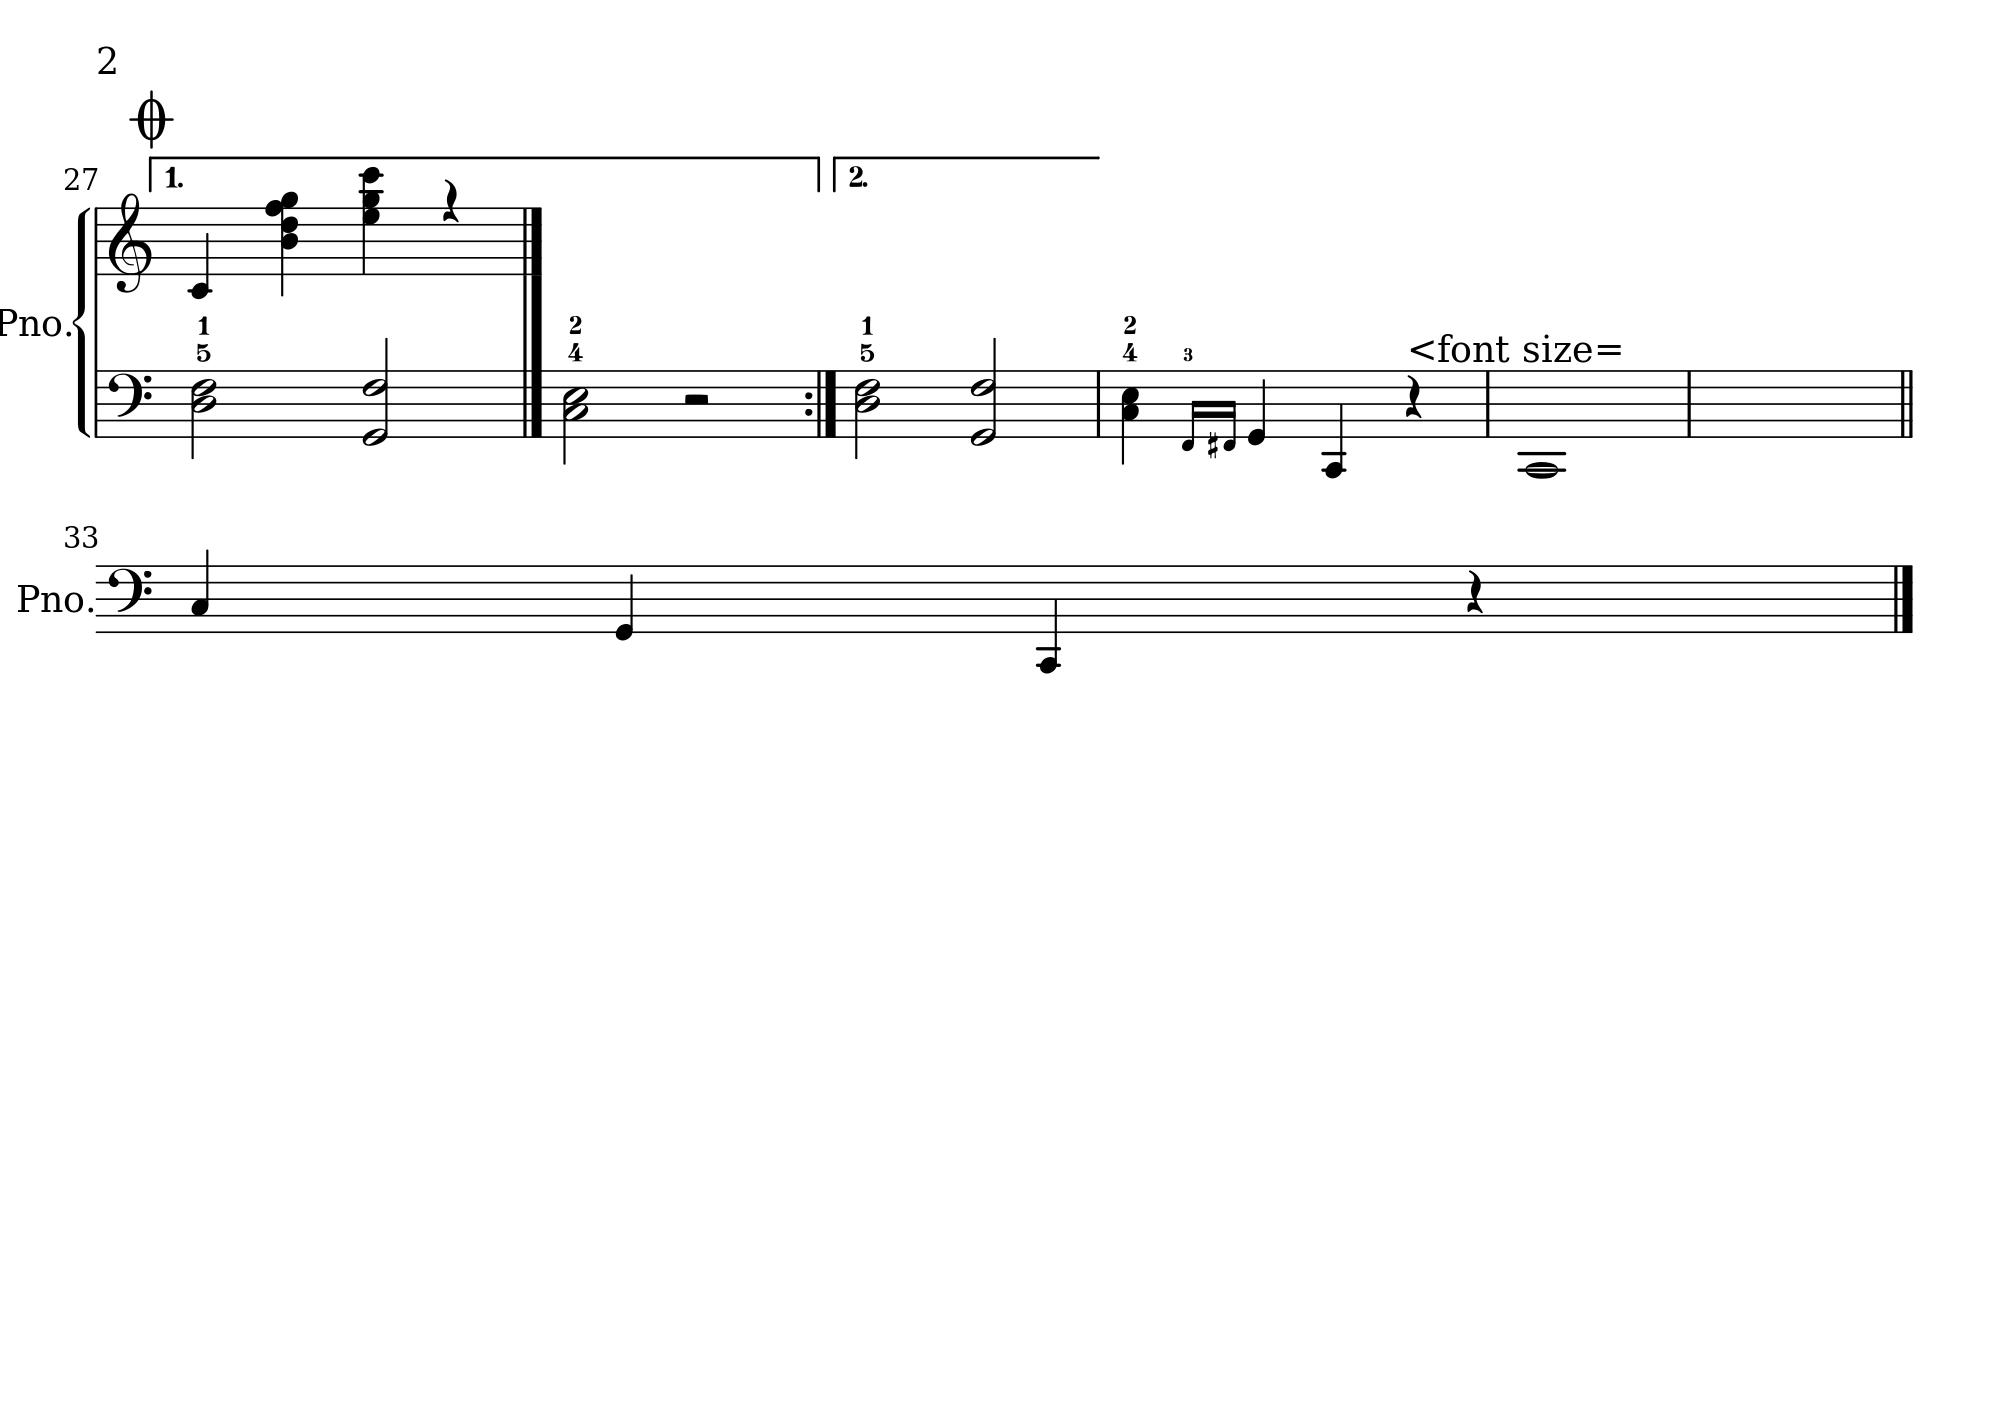1: (194, 312, 214, 340), (860, 314, 876, 337)
1_-4: (1519, 367, 1566, 479)
2: (95, 43, 118, 75), (61, 164, 81, 192), (565, 314, 584, 337), (1122, 314, 1138, 335)
2_0_6: (361, 338, 392, 449), (968, 340, 999, 447)
2_3_5: (561, 367, 588, 467), (1118, 367, 1140, 466)
2_4_6: (189, 367, 218, 460), (853, 367, 880, 463)
3: (61, 523, 81, 550), (80, 523, 98, 550), (1181, 346, 1194, 363)
4: (565, 338, 584, 361), (1122, 340, 1138, 363)
4_-2: (187, 204, 212, 301)
4_-4: (1320, 366, 1347, 478), (1035, 562, 1062, 673)
4_0: (1246, 367, 1267, 447), (615, 562, 636, 642)
4_3: (189, 547, 212, 633)
4_th: (266, 187, 303, 297), (356, 161, 386, 277)
5: (194, 337, 217, 363), (857, 340, 876, 363)
7: (81, 164, 98, 192)
Accent_above: (1409, 340, 1433, 358)
Brace: (72, 203, 92, 433)
Coda: (129, 88, 174, 148)
Double_barline: (1894, 369, 1917, 438)
Fclef: (104, 562, 154, 635), (106, 367, 154, 440)
Final_barline: (518, 369, 547, 438), (518, 204, 545, 274), (1888, 562, 1916, 632)
Gclef: (108, 191, 152, 294)
Pno: (14, 582, 86, 616), (2, 303, 63, 340)
Prima_volta: (144, 151, 825, 198)
Rests2: (681, 390, 713, 410)
Rests4: (1401, 372, 1426, 420), (438, 177, 461, 224), (1464, 567, 1486, 615)
RightRepeatSign: (802, 370, 840, 436)
Seconda_volta: (827, 152, 1103, 195)
Sharp: (1208, 430, 1218, 460)
Single_barline: (1479, 369, 1496, 436), (1681, 370, 1698, 436), (1091, 370, 1106, 435), (91, 207, 104, 274), (91, 370, 104, 436)
